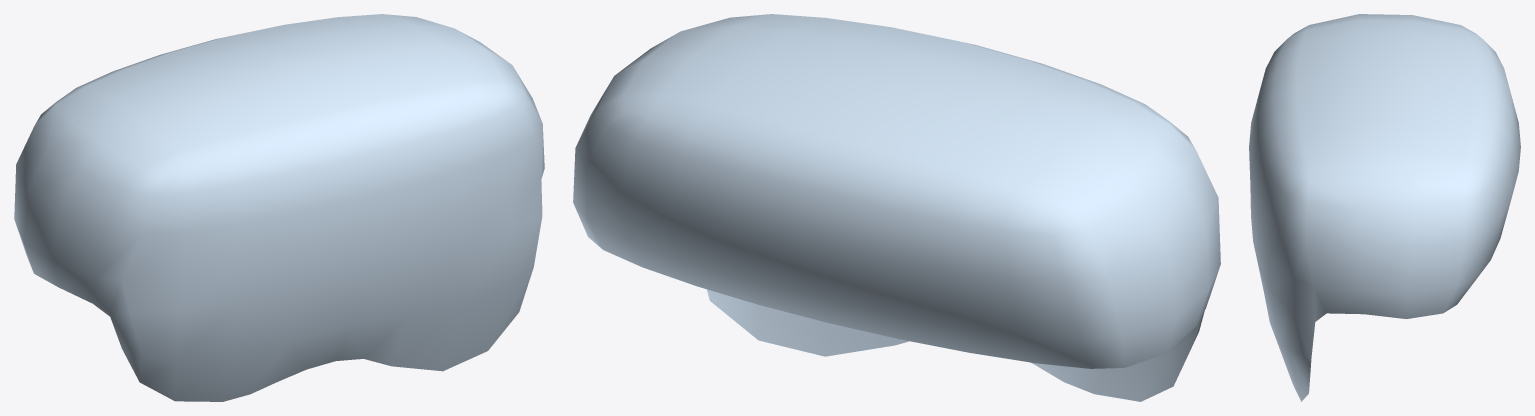
Rendered from snow6.fbx.
3 renders of one model, left to right at view 1: azimuth 30°, elevation 25°; view 2: azimuth 150°, elevation 25°; view 3: azimuth 270°, elevation 25°, orthographic. The views are drawn at different scales.
Parts seen in each view (by area): view 1: snow6; view 2: snow6; view 3: snow6.
Boxes of the visible parts, x1,y1,x2,y2 form: snow6: (14, 14, 544, 401); snow6: (573, 14, 1220, 401); snow6: (1249, 14, 1520, 401).
Bounding box in the file's own units: 91.73 × 54.18 × 50.8.
